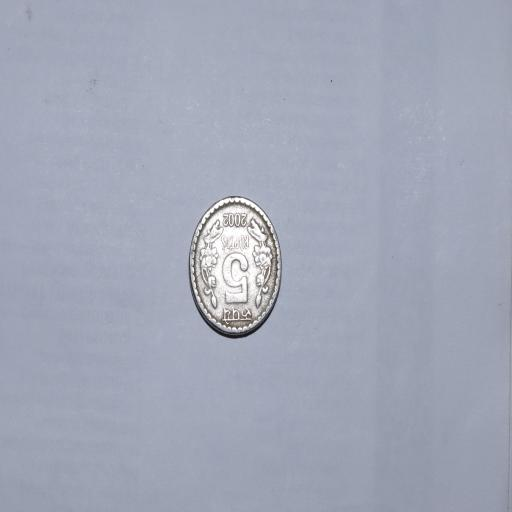rupee5: (186, 193, 286, 341)
